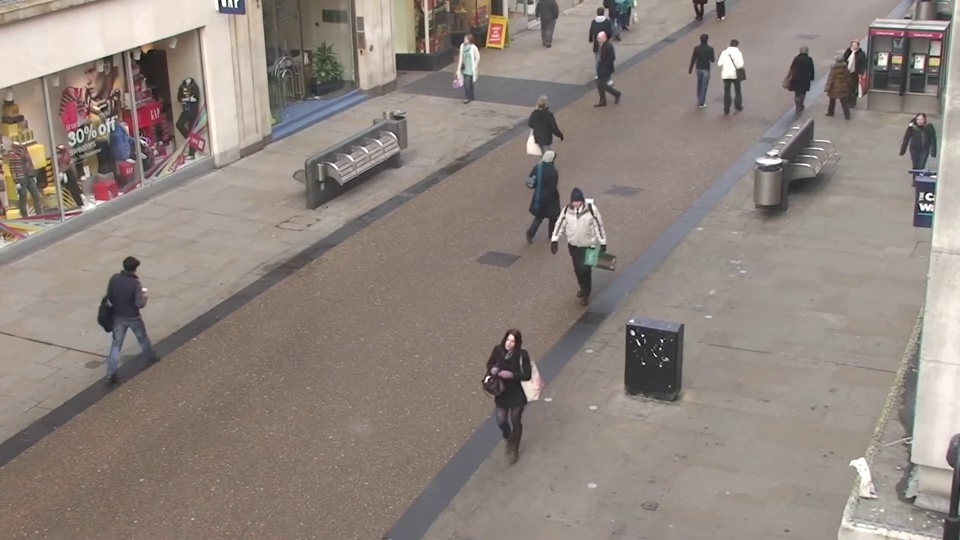pedestrian: (481, 328, 530, 479), (122, 242, 175, 368), (892, 112, 938, 211), (554, 192, 591, 310), (540, 141, 574, 244), (535, 88, 565, 177), (817, 49, 850, 129), (834, 39, 867, 117), (786, 41, 817, 119), (722, 34, 749, 108), (691, 29, 717, 102), (453, 34, 479, 106), (582, 30, 606, 102), (592, 4, 614, 69)
